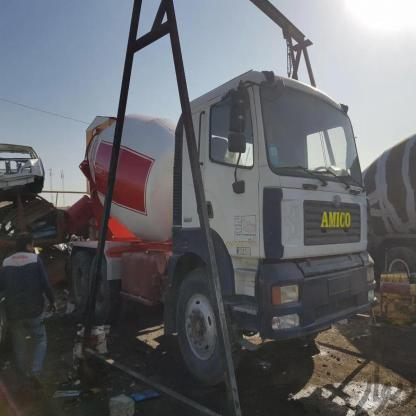Truck: (73, 67, 380, 397)
